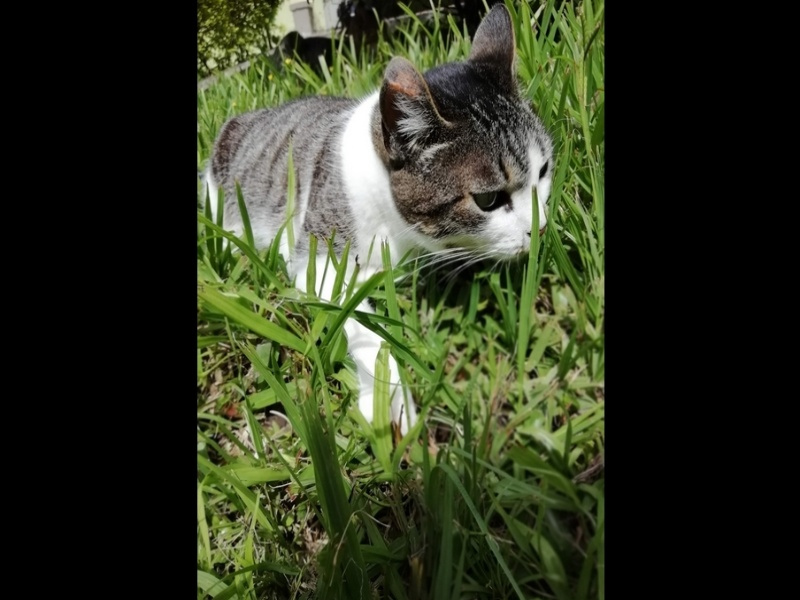cat: (201, 5, 571, 442)
